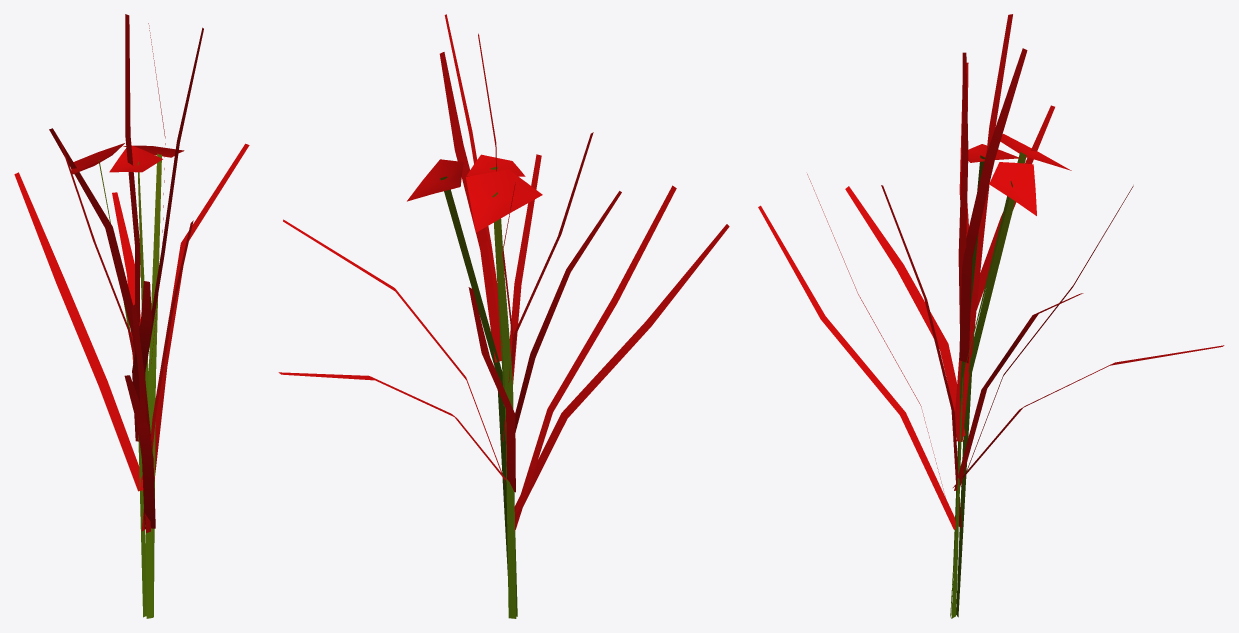
File: vegetation_10.fbx
The picture shows the model from 3 angles, left to right: view 1: azimuth 30°, elevation 25°; view 2: azimuth 150°, elevation 25°; view 3: azimuth 270°, elevation 25°; orthographic projection. The views are drawn at different scales.
Visible parts, largest first — view 1: _cp7u_Var16_; view 2: _cp7u_Var16_; view 3: _cp7u_Var16_.
Part boxes in pixels (x1,y1,x2,y2): _cp7u_Var16_: [14, 14, 249, 618]; _cp7u_Var16_: [278, 14, 729, 618]; _cp7u_Var16_: [758, 14, 1224, 618].
Size of the model in its own units: 8.86 by 17.69 by 12.36.
